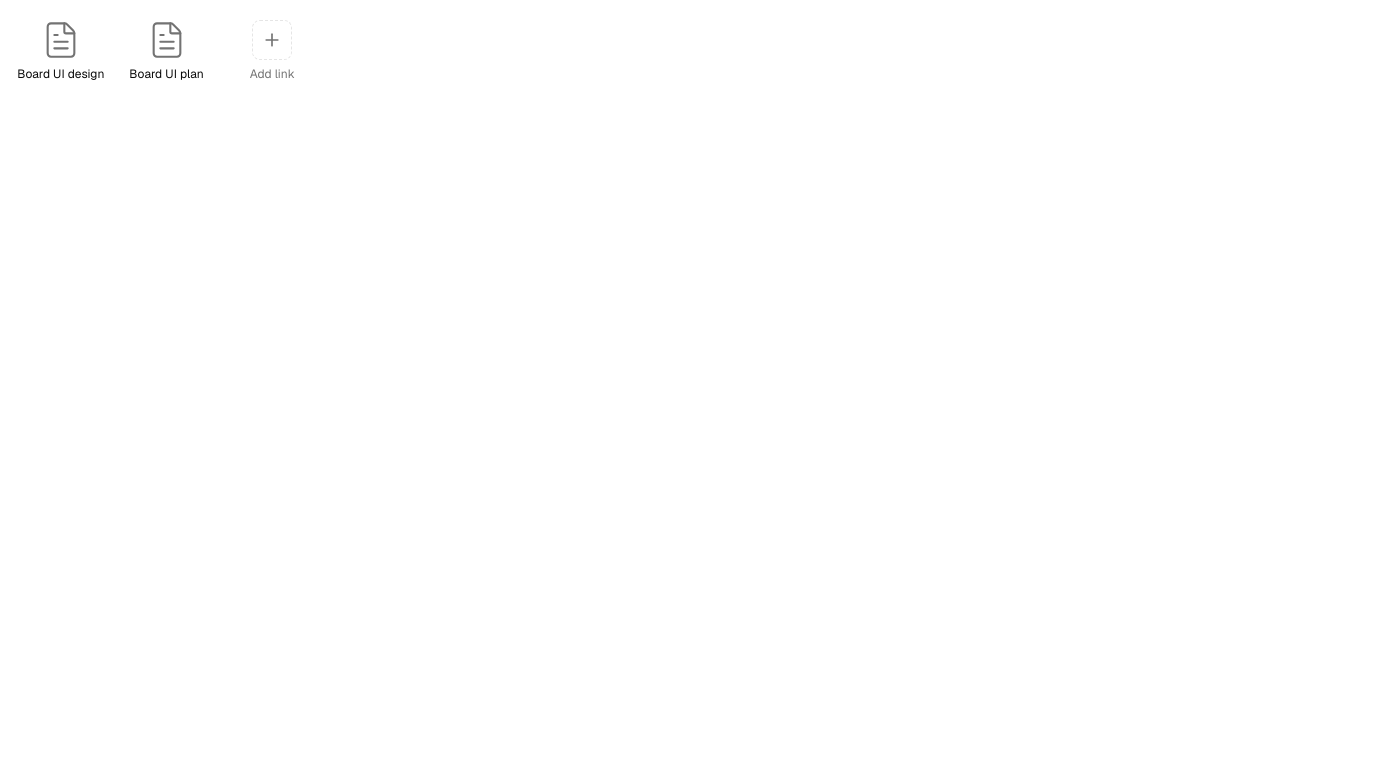
Test: a rejected path keeps the form open and shows a toast
Click the button "Add link" at coordinates (272, 51), box x1=223 y1=12 x2=321 y2=90
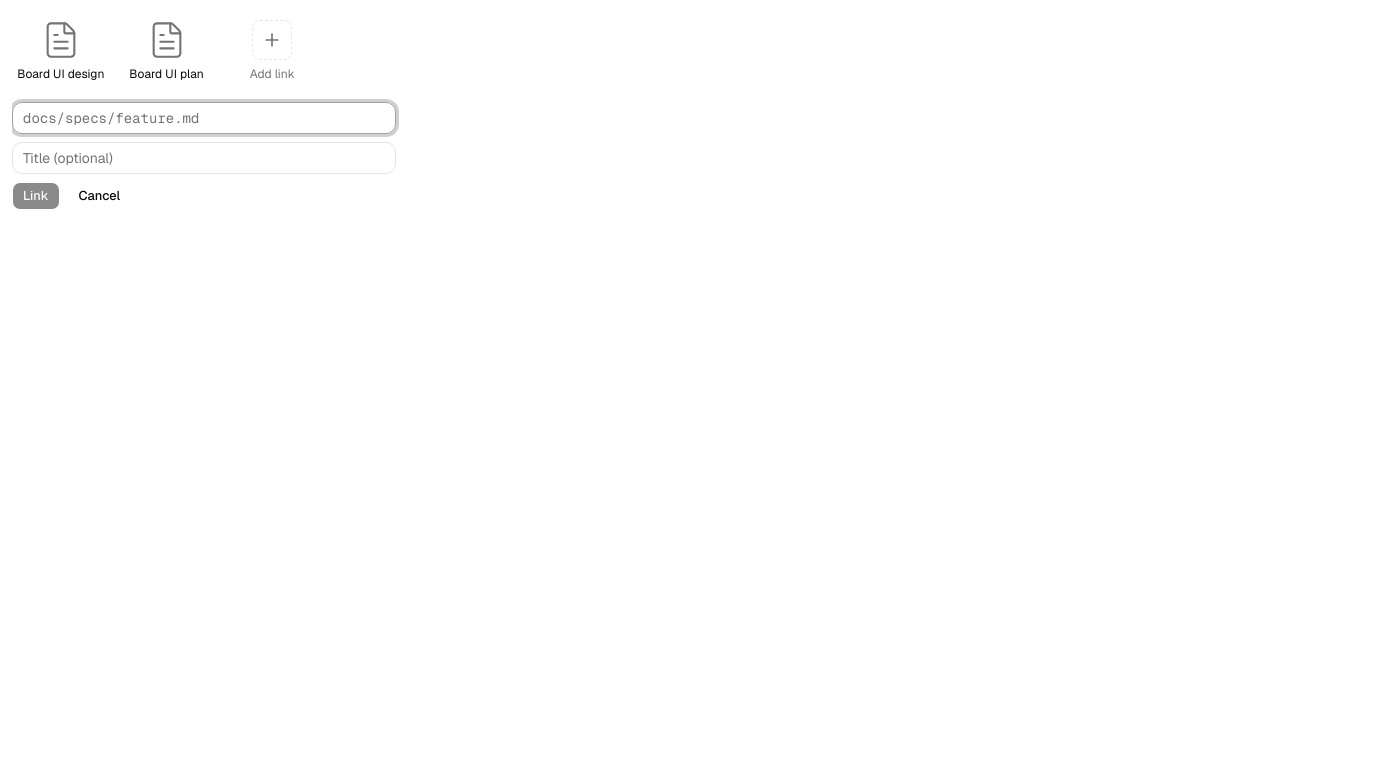
Type "notes.txt" into the field named "File path" at coordinates (204, 118), box x1=12 y1=102 x2=396 y2=134
Then press Enter
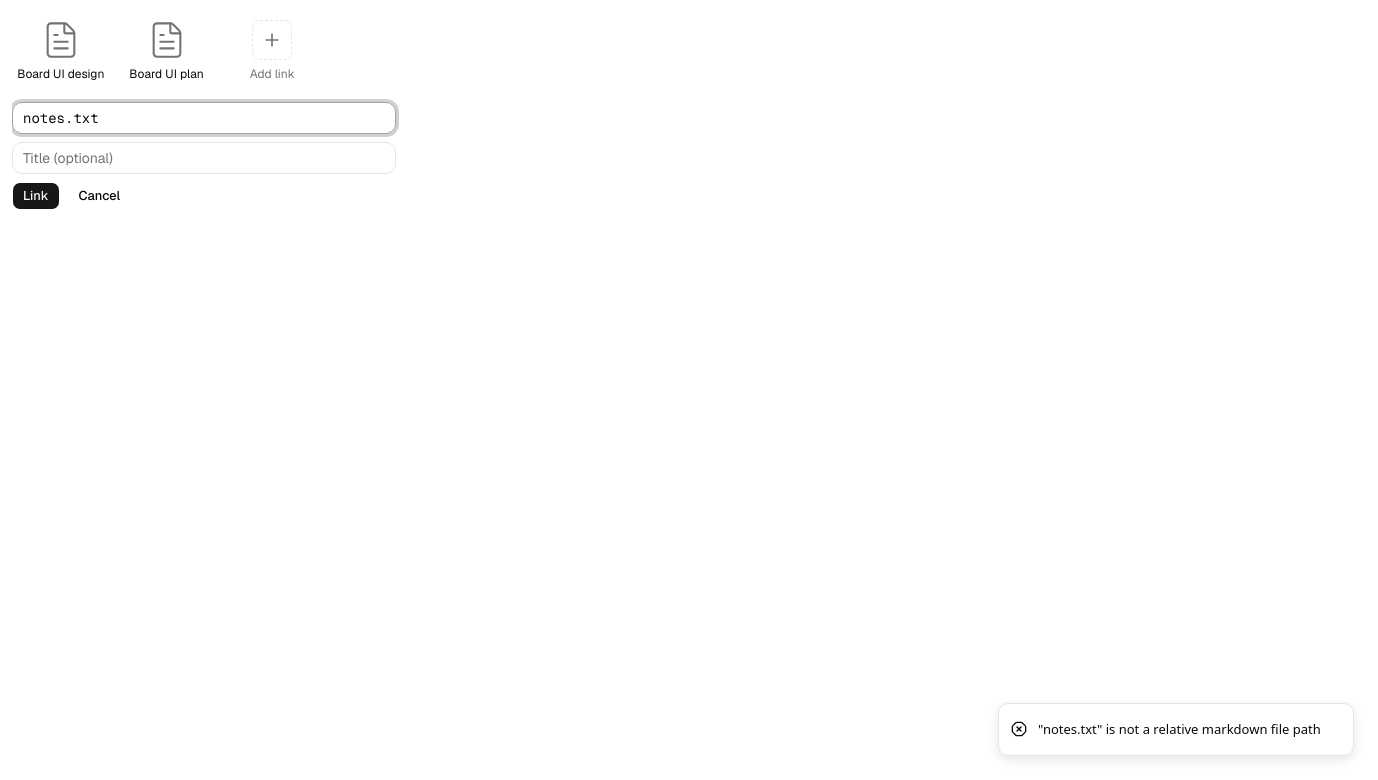
Check: the text "\"notes.txt\" is not a relative markdown file path" is shown, box x1=1038 y1=720 x2=1321 y2=739
